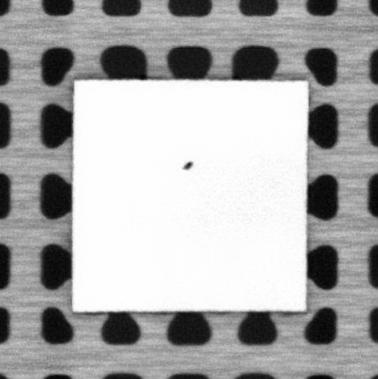DIE_INK: (180, 158, 194, 171)
